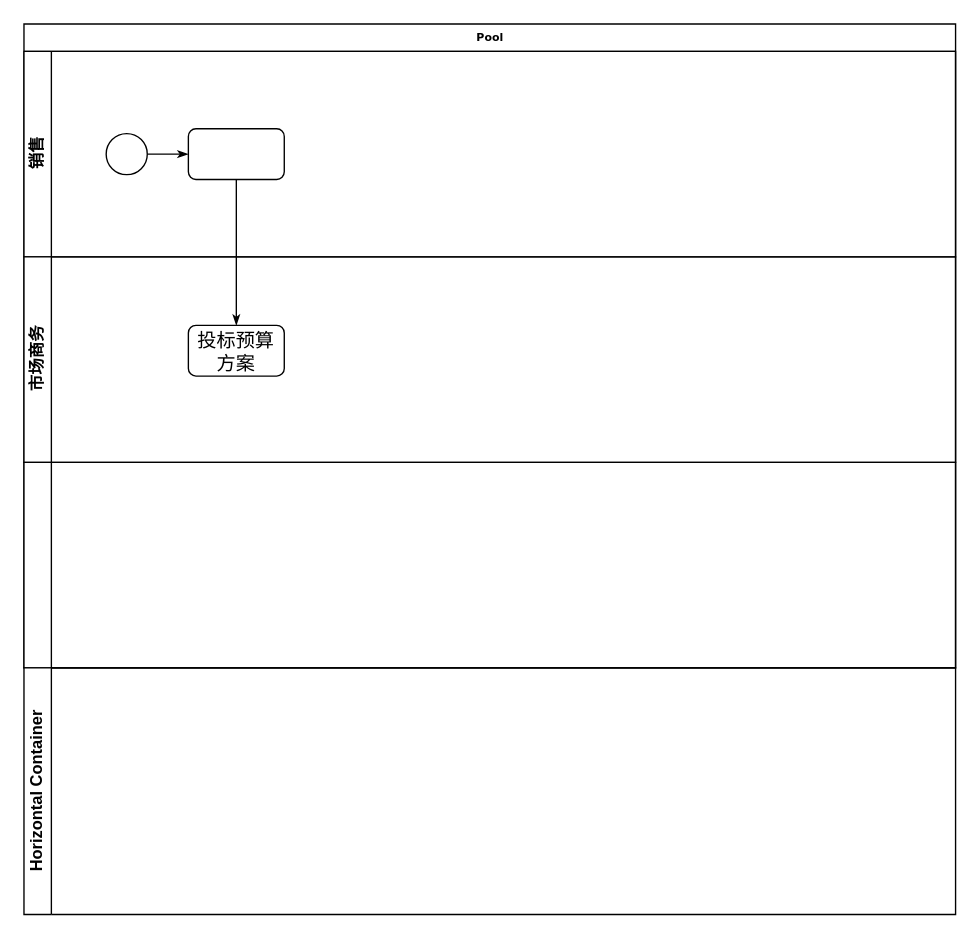
Image size: 980x938. Some labels were removed from this diagram. The shapes that lost their labels are listed below. From the top down, each one's centre as x and y in pixels, then its label:
At [235,153]: "标讯".
At [489,564]: "Lane 3".
